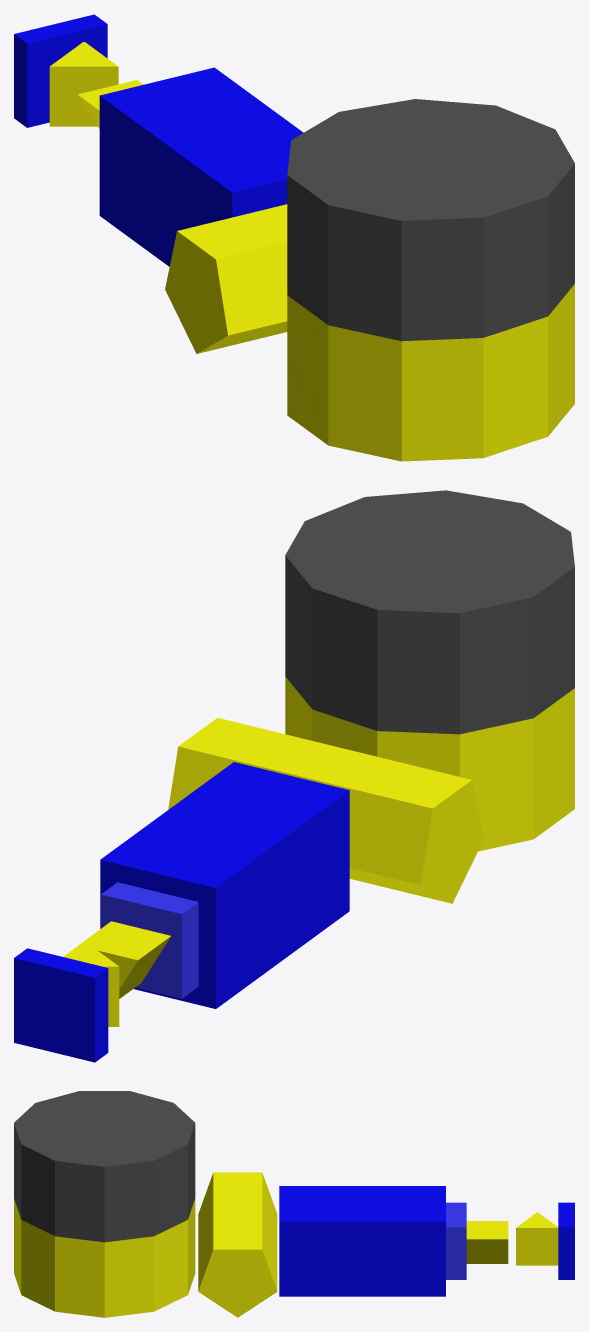
Rendered from kevin4.dae.
3 renders of one model, top to bottom at view 1: azimuth 30°, elevation 25°; view 2: azimuth 150°, elevation 25°; view 3: azimuth 270°, elevation 25°, orthographic. The views are drawn at different scales.
Parts seen in each view (by area): view 1: base_link, base_motor, extend_link1, lift_motor, wrist_plate, wrist_tilt_motor, wrist_motor; view 2: base_link, extend_link1, lift_motor, base_motor, wrist_plate, extend_link2, wrist_motor, wrist_tilt_motor; view 3: base_link, extend_link1, base_motor, lift_motor, wrist_tilt_motor, wrist_motor, extend_link2, wrist_plate.
Part boxes in pixels (bbox=[...]): base_link: bbox=[287, 99, 574, 341]; base_motor: bbox=[287, 284, 574, 461]; extend_link1: bbox=[99, 67, 303, 266]; lift_motor: bbox=[165, 204, 287, 353]; wrist_plate: bbox=[14, 14, 107, 127]; wrist_tilt_motor: bbox=[49, 42, 118, 126]; wrist_motor: bbox=[77, 80, 143, 128]; base_link: bbox=[285, 490, 574, 734]; extend_link1: bbox=[100, 762, 349, 1008]; lift_motor: bbox=[168, 718, 484, 903]; base_motor: bbox=[285, 677, 574, 851]; wrist_plate: bbox=[14, 948, 108, 1062]; extend_link2: bbox=[101, 882, 198, 998]; wrist_motor: bbox=[78, 921, 170, 998]; wrist_tilt_motor: bbox=[63, 941, 119, 1026]; base_link: bbox=[14, 1091, 195, 1242]; extend_link1: bbox=[279, 1186, 445, 1296]; base_motor: bbox=[14, 1199, 195, 1317]; lift_motor: bbox=[198, 1172, 277, 1317]; wrist_tilt_motor: bbox=[516, 1212, 558, 1265]; wrist_motor: bbox=[466, 1221, 508, 1263]; extend_link2: bbox=[446, 1202, 466, 1279]; wrist_plate: bbox=[558, 1202, 574, 1279].
Size of what is drawn, in the model's own units: 0.22 by 0.6739 by 0.2.
